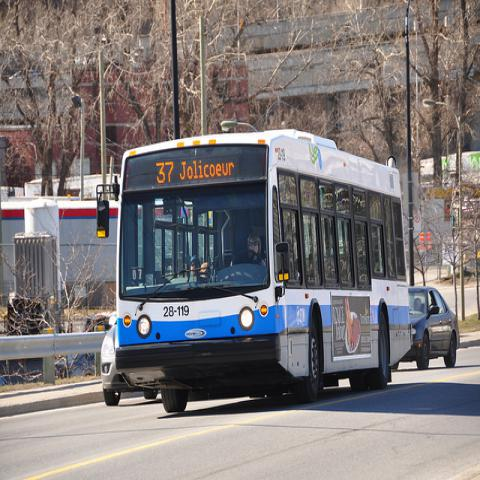bus: (100, 123, 416, 421)
car: (390, 286, 462, 372), (101, 324, 158, 408)
